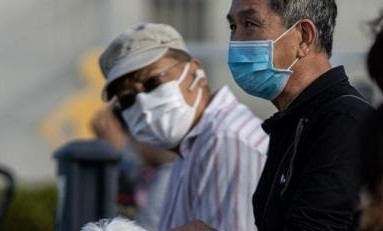with_mask: (103, 47, 215, 152), (220, 2, 333, 106)
